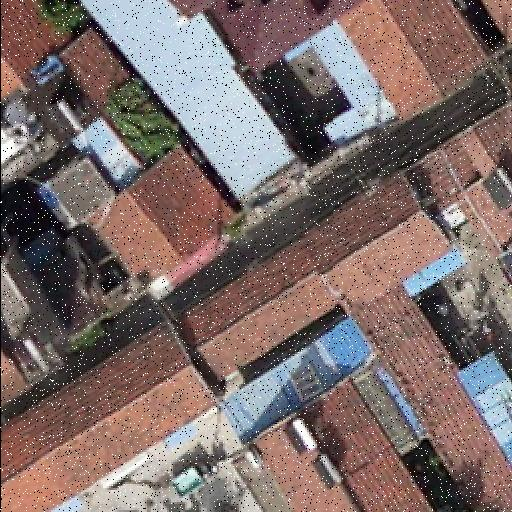solar-panel: (496, 242, 512, 278)
